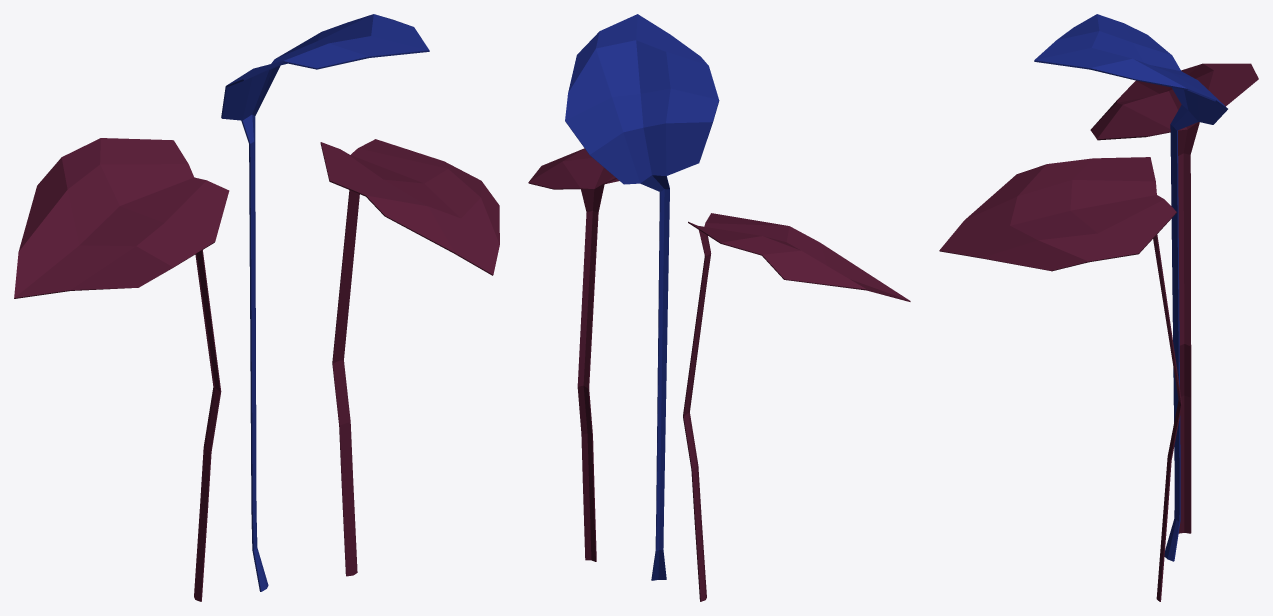
Rendered from st3_plant9.fbx.
3 views of the same model, side by side, from view 1: azimuth 30°, elevation 25°; view 2: azimuth 150°, elevation 25°; view 3: azimuth 270°, elevation 25° (orthographic). The views are drawn at different scales.
Parts seen in each view (by area): view 1: stage3_map_object_leaf_7_1; view 2: stage3_map_object_leaf_7_1; view 3: stage3_map_object_leaf_7_1.
Boxes of the visible parts, box(x1,y1,x2,y2) form: stage3_map_object_leaf_7_1: box(14, 14, 499, 601); stage3_map_object_leaf_7_1: box(528, 14, 910, 601); stage3_map_object_leaf_7_1: box(939, 14, 1258, 601).
Size of the model in its own units: 1119 by 1374 by 731.
